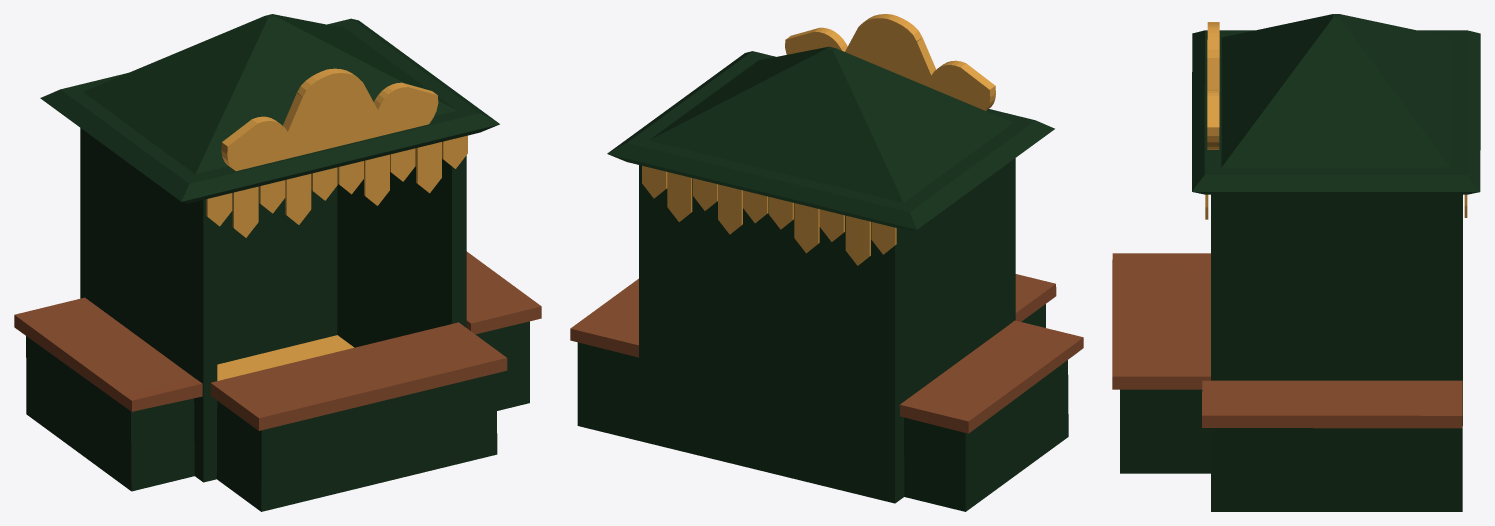
The model's file is F_Shop_04.fbx.
3 renders of one model, left to right at view 1: azimuth 30°, elevation 25°; view 2: azimuth 150°, elevation 25°; view 3: azimuth 270°, elevation 25°, orthographic. The views are drawn at different scales.
Visible parts, largest first — view 1: F_Shop_04; view 2: F_Shop_04; view 3: F_Shop_04.
Part boxes in pixels (<box>): F_Shop_04: <box>14,14,541,511</box>; F_Shop_04: <box>570,14,1083,511</box>; F_Shop_04: <box>1112,14,1480,511</box>.
Bounding box in the file's own units: 330 × 304 × 255.
1 material, 1 textured.
